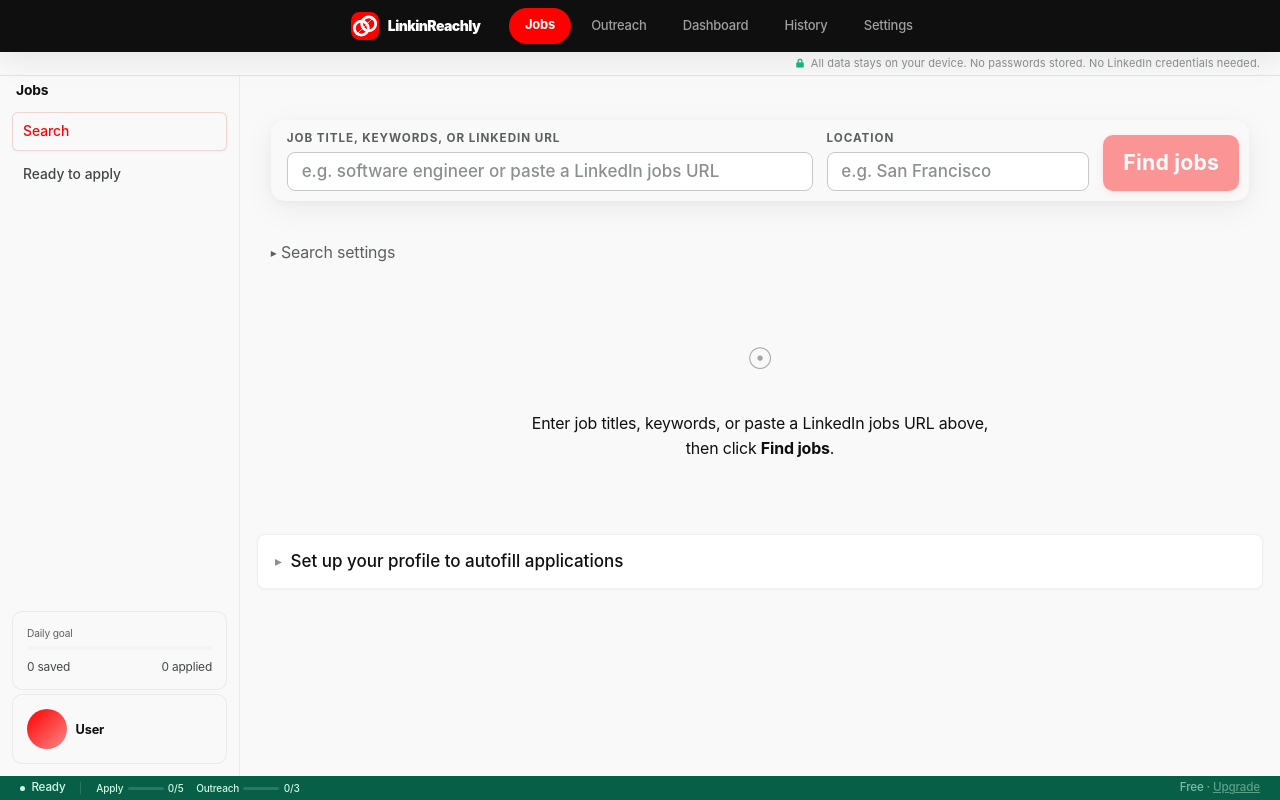
Wizard flow › navigates to Review step and shows message editor
This screenshot has width=1280, height=800.
Step 1. Click the tab "Outreach" → (619, 25), box [575, 8, 663, 42]
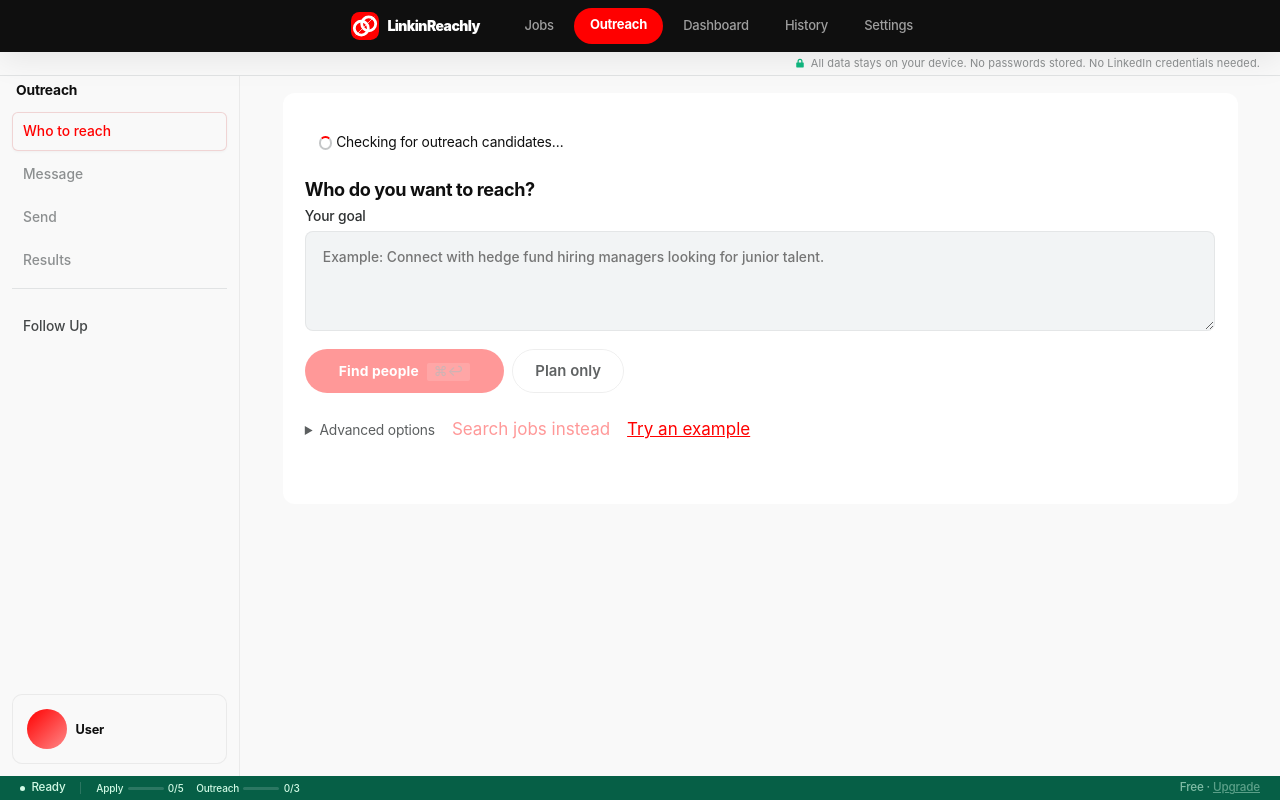
Step 2. Replace the text in the text box labelled "Your goal" with "Connect with hedge fund hiring managers." → (760, 281), box [305, 231, 1215, 331]
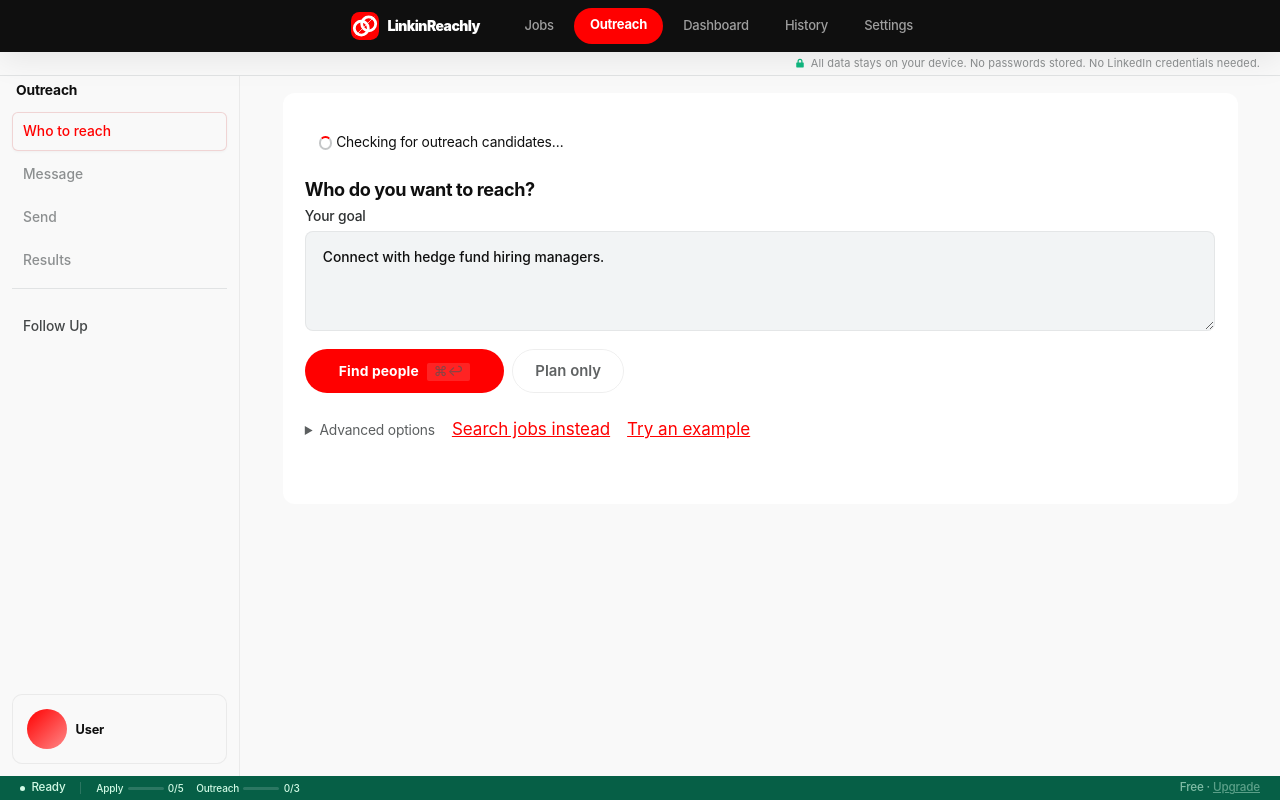
Step 3. Click the button "Plan only" → (568, 371), box [512, 349, 624, 393]
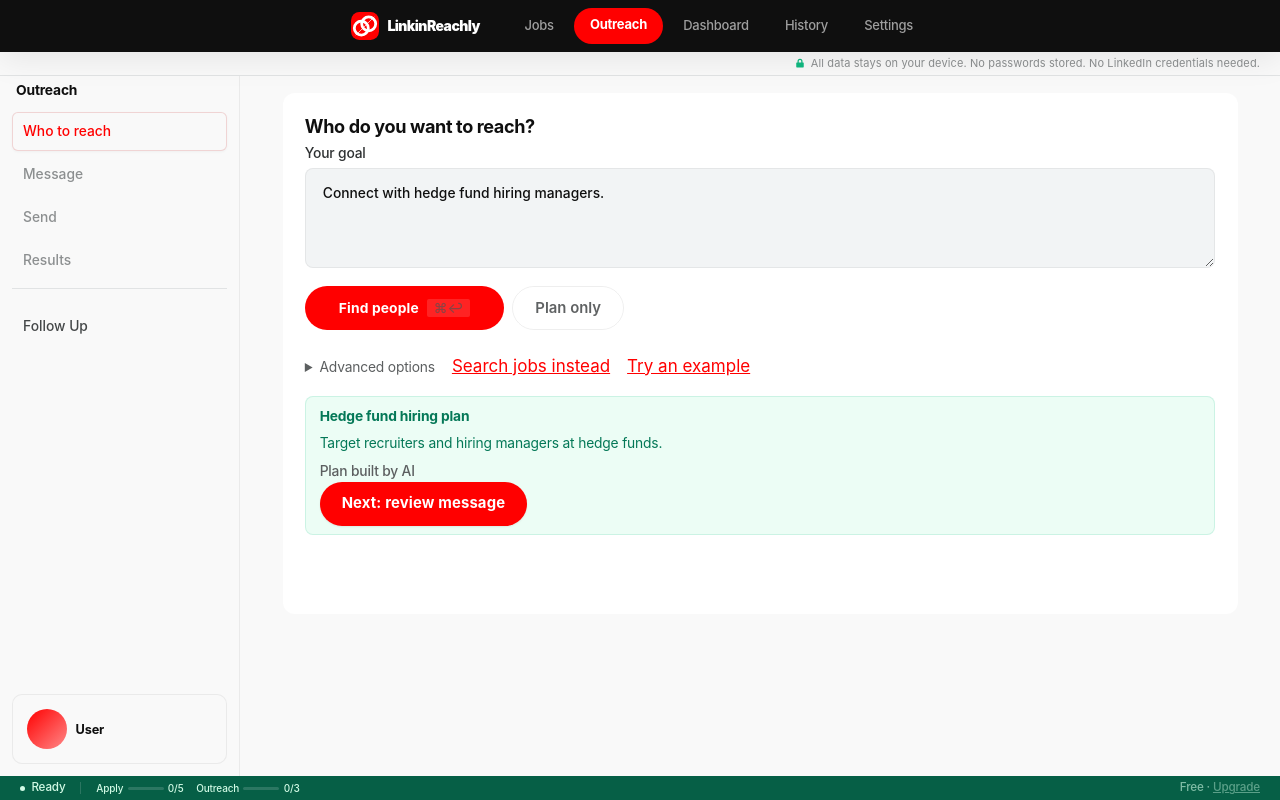
Step 4. Click the button "Next: review message" → (423, 504), box [320, 482, 527, 526]
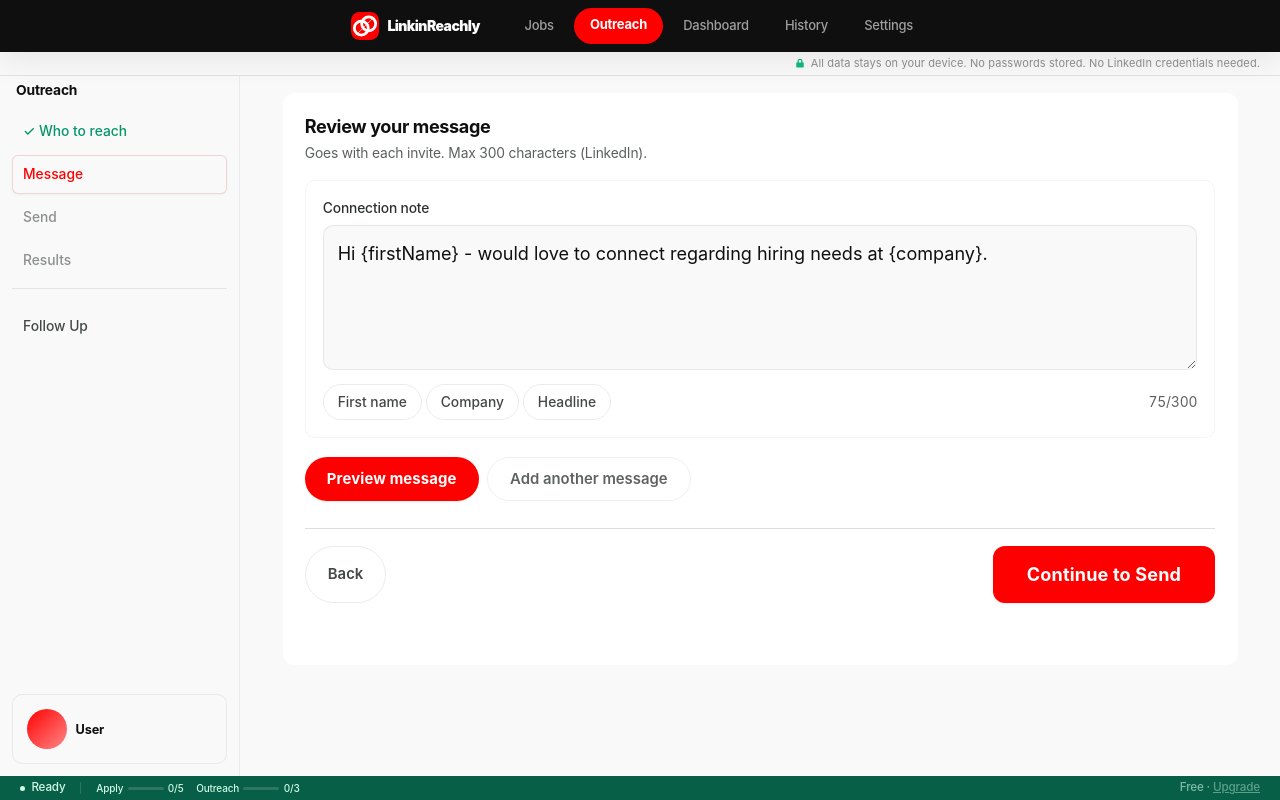
Result: the heading "Review your message" is shown at [305, 116, 490, 137]
Result: the text box labelled "Connection note" is shown at [323, 225, 1197, 370]
